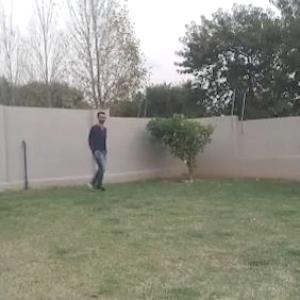follow: (89, 109, 111, 194)
